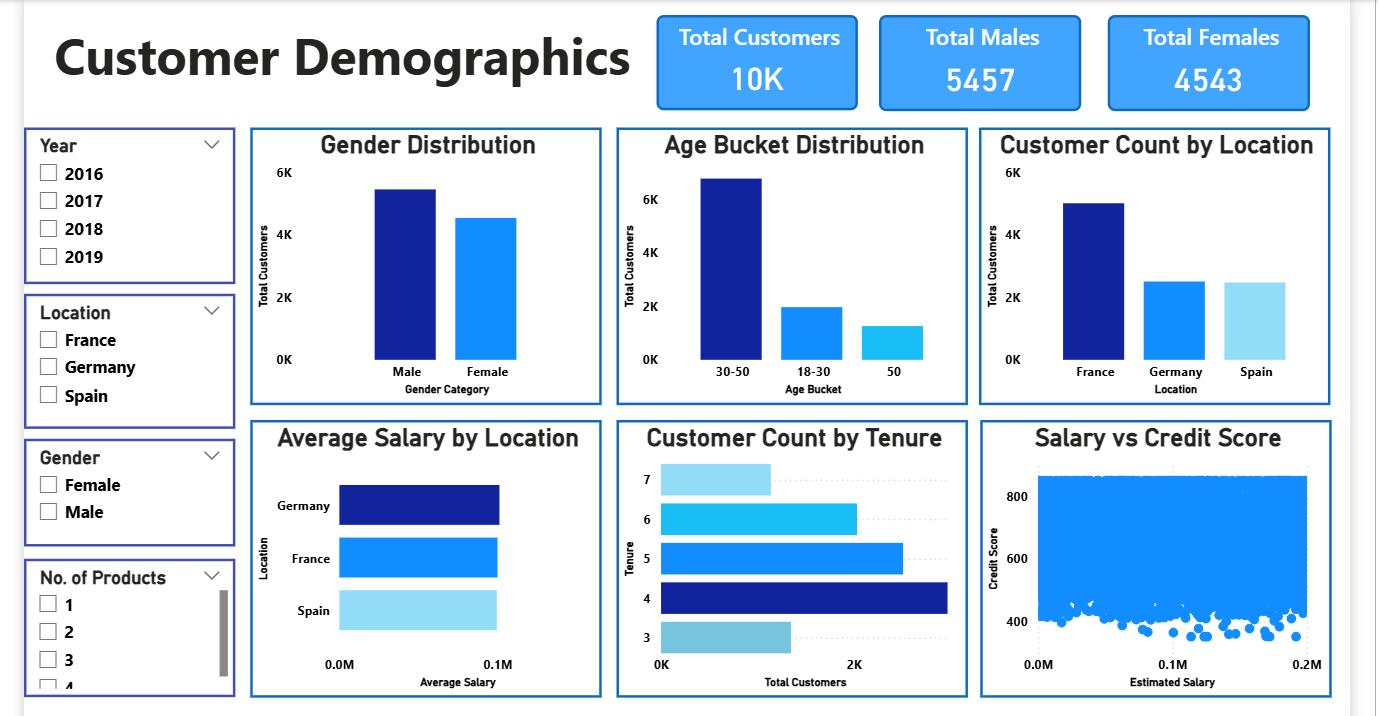

The page's visual inventory and layout, read from the dashboard file:
{"tool":"powerbi","page":{"name":"Customer Demographics","canvas":[1280,720],"ordinal":0},"visuals":[{"type":"clusteredColumnChart","title":"Gender Distribution","fields":{"Category":["Gender.GenderCategory"],"Y":["Active Customers.Customer count"]},"box":[218.4,123.1,339,267.8],"z":0},{"type":"clusteredColumnChart","title":"Age Bucket Distribution","fields":{"Y":["Active Customers.Total Customers"],"Category":["CustomerInfo.Age Interval"]},"box":[571.9,123.1,339,267.8],"z":1000},{"type":"clusteredColumnChart","title":"Customer Count by Location","fields":{"Category":["Geography.GeographyLocation"],"Y":["Active Customers.Total Customers"]},"box":[921.7,123.1,339,267.8],"z":2000},{"type":"clusteredBarChart","title":"Average Salary by Location","fields":{"Category":["Geography.GeographyLocation"],"Y":["Avg(CustomerInfo.EstimatedSalary)"]},"box":[218.4,405.4,339,267.8],"z":3000},{"type":"clusteredBarChart","title":"Customer Count by Tenure","fields":{"Category":["Bank_Churn.Tenure"],"Y":["Active Customers.Total Customers"]},"box":[571.9,405.4,339,267.8],"z":4000},{"type":"scatterChart","title":"Salary vs Credit Score","fields":{"X":["CustomerInfo.EstimatedSalary"],"Y":["Bank_Churn (2).CreditScore"]},"box":[922.9,405.4,339,267.8],"z":5000},{"type":"textbox","box":[24.1,15.7,571.9,91.7],"z":6000},{"type":"card","title":"Total Customers","fields":{"Values":["Active Customers.Total Customers"]},"box":[610.5,14.5,194.2,91.7],"z":7000},{"type":"card","title":"Total Males","fields":{"Values":["CustomerInfo.Total males"]},"box":[825.2,14.5,195.4,92.9],"z":8000},{"type":"card","title":"Total Females","fields":{"Values":["CustomerInfo.total females"]},"box":[1046,14.5,195.4,92.9],"z":9000},{"type":"slicer","fields":{"Values":["CustomerInfo.year"]},"box":[0,123.1,203.9,150.8],"z":10000},{"type":"slicer","fields":{"Values":["Geography.GeographyLocation"]},"box":[0,283.5,203.9,130.3],"z":11000},{"type":"slicer","fields":{"Values":["Gender.GenderCategory"]},"box":[0,423.5,203.9,103.8],"z":12000},{"type":"slicer","fields":{"Values":["data-1781104341764.numofproducts"]},"box":[0,539.3,203.9,133.9],"z":13000}]}

Visuals, with their boxes on the page's 1280x720 design canvas (x1, y1, x2, y2). These are canvas units, not pixel positions in the 1378x716 screenshot, which may show the page scaled, cropped or inside an application window:
"Gender Distribution" clusteredColumnChart: region(218, 123, 557, 391)
"Age Bucket Distribution" clusteredColumnChart: region(572, 123, 911, 391)
"Customer Count by Location" clusteredColumnChart: region(922, 123, 1261, 391)
"Average Salary by Location" clusteredBarChart: region(218, 405, 557, 673)
"Customer Count by Tenure" clusteredBarChart: region(572, 405, 911, 673)
"Salary vs Credit Score" scatterChart: region(923, 405, 1262, 673)
textbox: region(24, 16, 596, 107)
"Total Customers" card: region(610, 14, 805, 106)
"Total Males" card: region(825, 14, 1021, 107)
"Total Females" card: region(1046, 14, 1241, 107)
slicer - CustomerInfo.year: region(0, 123, 204, 274)
slicer - Geography.GeographyLocation: region(0, 284, 204, 414)
slicer - Gender.GenderCategory: region(0, 424, 204, 527)
slicer - data-1781104341764.numofproducts: region(0, 539, 204, 673)
